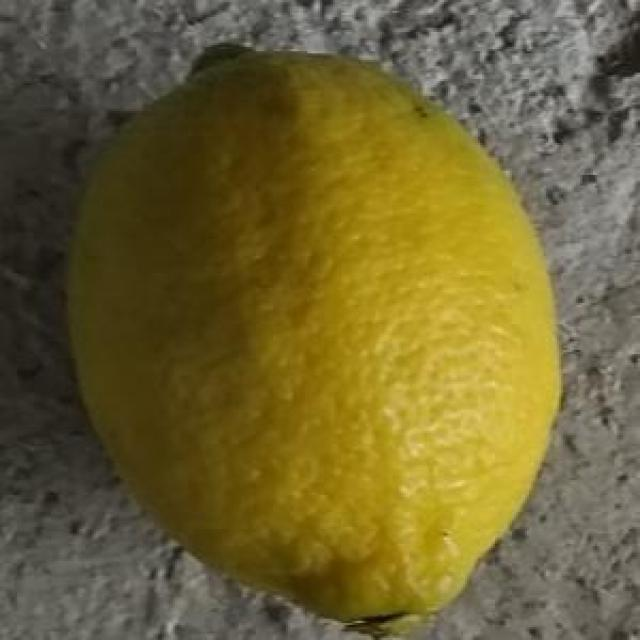lemon: (60, 32, 565, 640)
